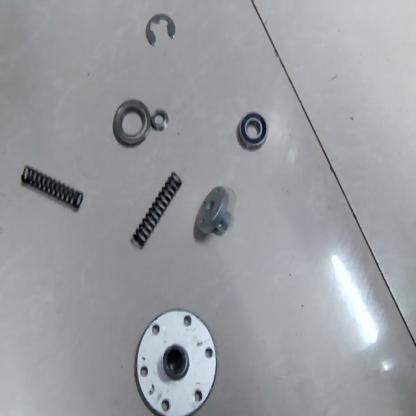FOD: (130, 303, 222, 415), (130, 164, 184, 250), (15, 155, 86, 214), (192, 182, 236, 244), (110, 95, 149, 148), (236, 108, 268, 154), (143, 14, 176, 48), (150, 105, 170, 132)
